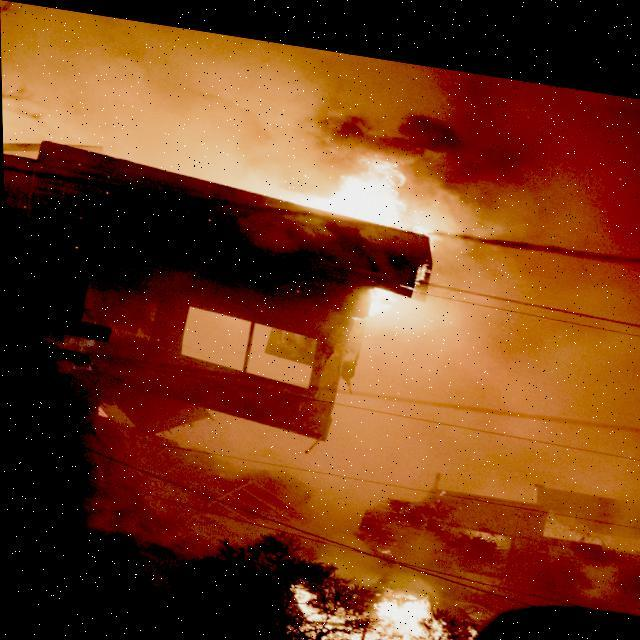Fire: (275, 126, 482, 322), (268, 539, 454, 639)
